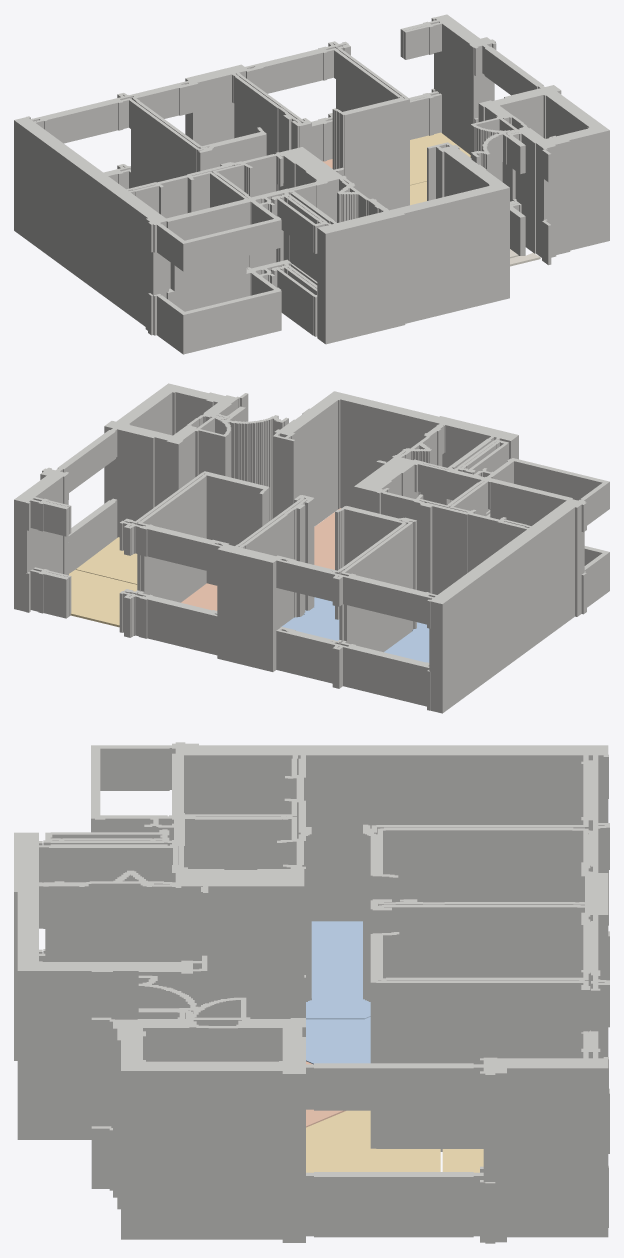
3 views of the same model, one above another, from view 1: azimuth 30°, elevation 25°; view 2: azimuth 150°, elevation 25°; view 3: azimuth 270°, elevation 25° (orthographic). The views are drawn at different scales.
Visible parts, largest first — view 1: walls, room:living:4; view 2: walls, room:living:4, room:kitchen:6, room:living:3, room:bedroom:0, room:bedroom:2; view 3: walls, room:bedroom:2, room:living:3, room:bedroom:0, room:living:4.
Boxes of the visible parts, x1,y1,x2,y2 form: walls: [14, 14, 609, 354]; room:living:4: [410, 132, 470, 185]; walls: [14, 383, 609, 713]; room:living:4: [69, 569, 137, 627]; room:kitchen:6: [181, 508, 340, 610]; room:living:3: [76, 537, 137, 584]; room:bedroom:0: [282, 597, 339, 640]; room:bedroom:2: [384, 622, 429, 662]; walls: [14, 742, 609, 1243]; room:bedroom:2: [306, 921, 370, 1019]; room:living:3: [306, 1110, 440, 1172]; room:bedroom:0: [306, 1017, 370, 1064]; room:living:4: [442, 1149, 483, 1172].
Size of the model in its own units: 11.82 by 2.8 by 8.95.
